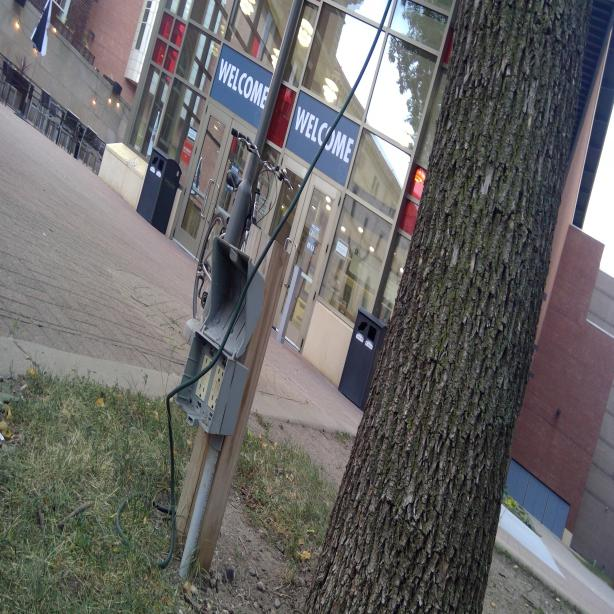typeb: (215, 363, 225, 384), (196, 382, 207, 399), (210, 391, 218, 410)
